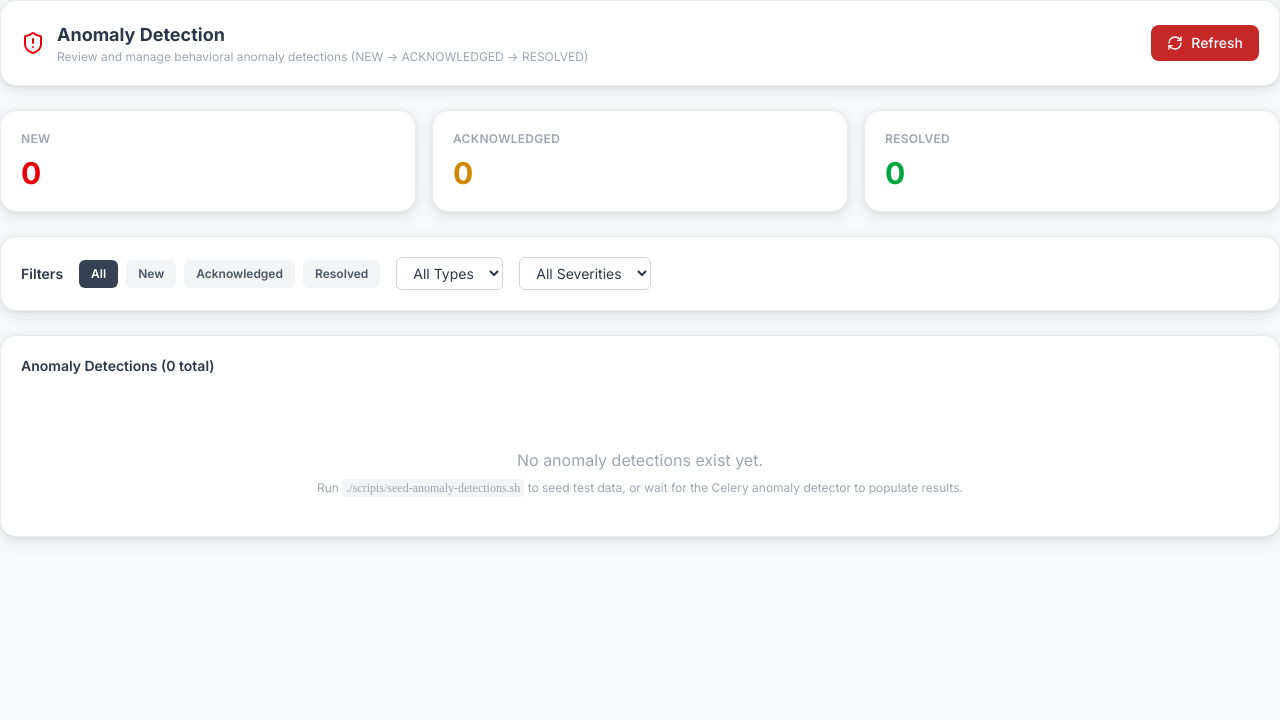
Scenario: M8: Anomaly Detection ACK/RESOLVE page › shows adjust-filters message when filters produce empty result
The image size is (1280, 720).
Click the button "New" at (151, 274), box [126,260,176,288]
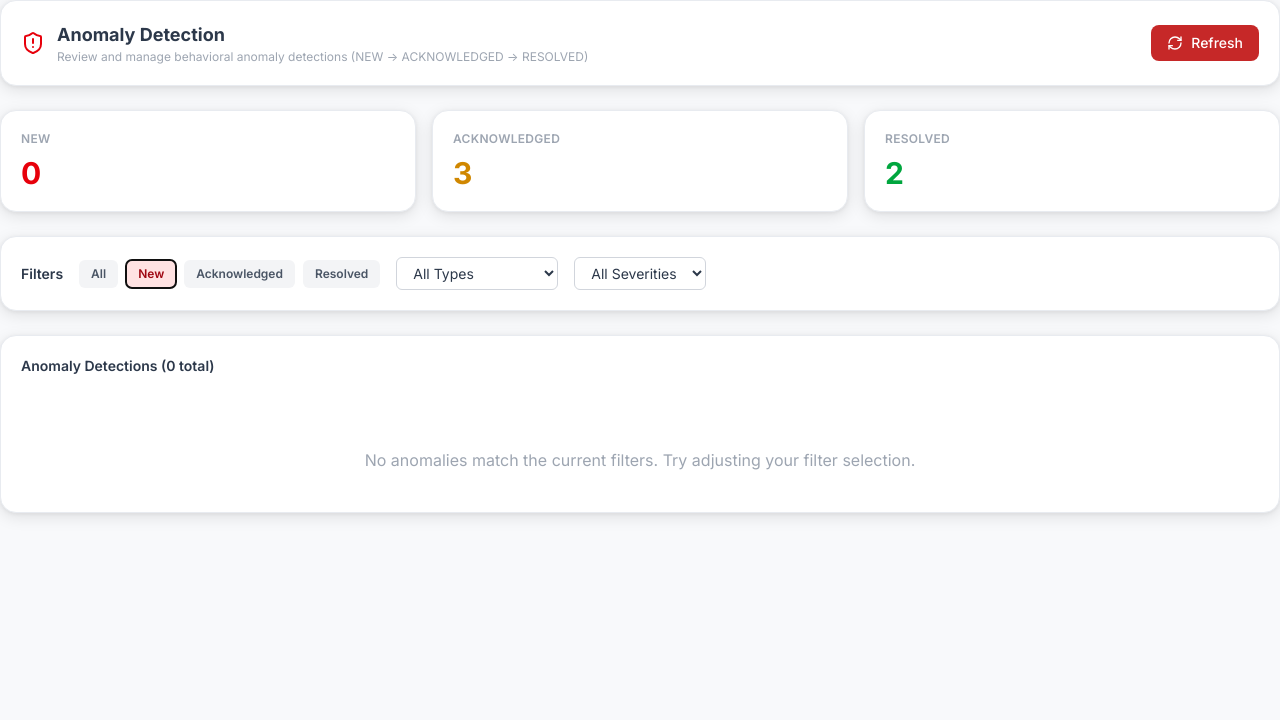
expect the text "No anomalies match the current filters" is shown: met, box [365,450,915,470]
